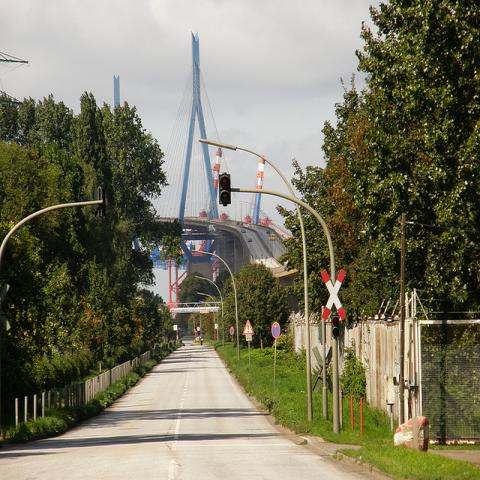car: (271, 233, 275, 241), (241, 228, 246, 233), (248, 237, 252, 242)
